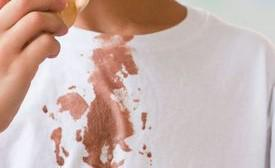gun: (46, 29, 149, 162)
